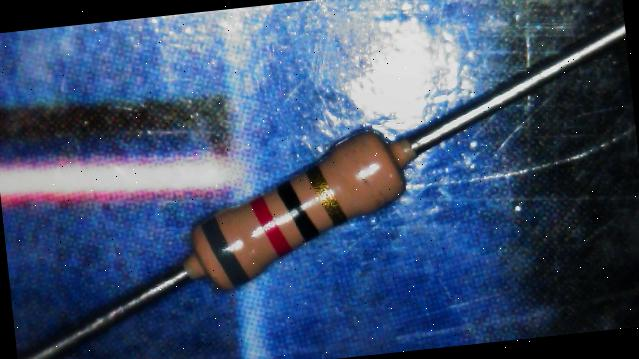black: (276, 178, 318, 244)
gold: (304, 162, 347, 228)
grey: (198, 212, 249, 290)
red: (248, 194, 290, 258)
resistor: (156, 103, 443, 317)
